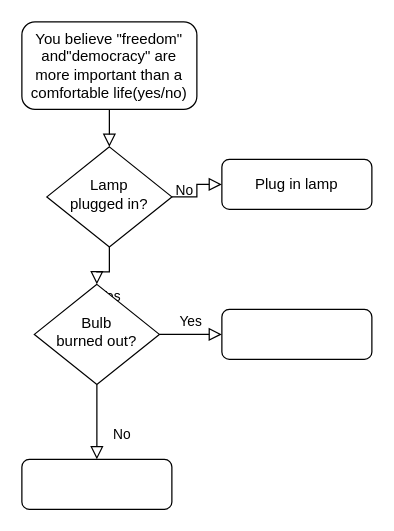
Image size: 394x531. Some labels were removed from this diagram. Each missing label, with the box of its shape:
Repair Lamp: (21, 458, 172, 509)
Replace Bulb: (221, 308, 372, 359)
